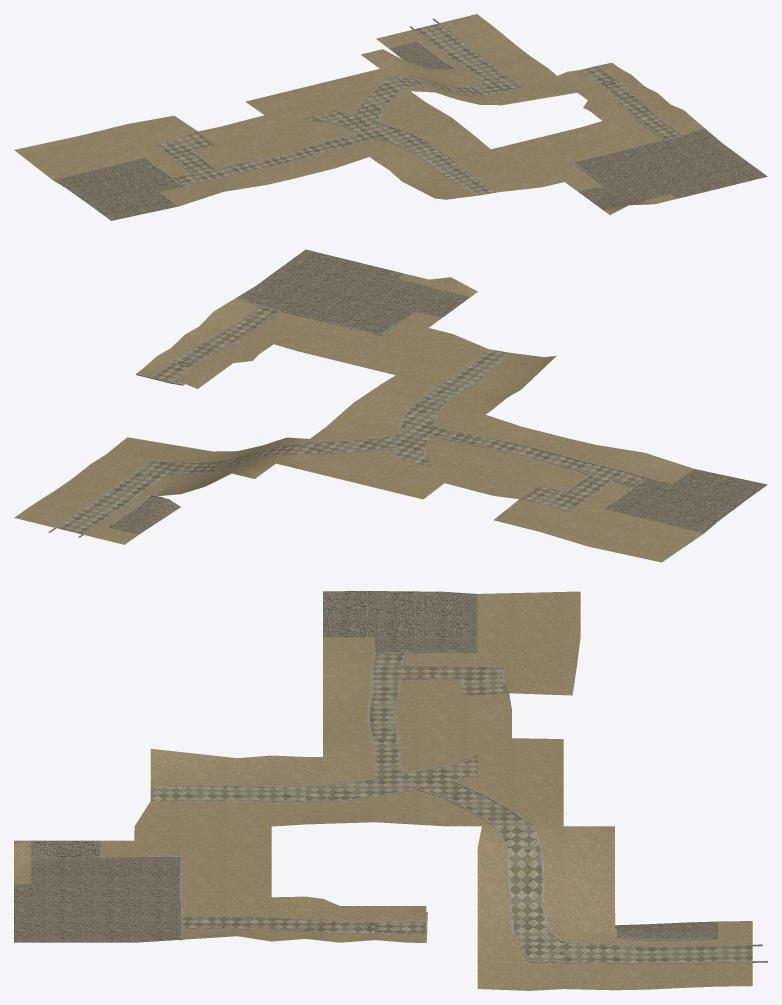
Rendered from Terrain1_scene97.fbx.
The picture shows the model from 3 angles, top to bottom: view 1: azimuth 30°, elevation 25°; view 2: azimuth 150°, elevation 25°; view 3: azimuth 270°, elevation 25°; orthographic projection. The views are drawn at different scales.
Parts seen in each view (by area): view 1: Terrain1_scene97; view 2: Terrain1_scene97; view 3: Terrain1_scene97.
Boxes of the visible parts, x1=… form: Terrain1_scene97: x1=14, y1=14, x2=767, y2=220; Terrain1_scene97: x1=14, y1=249, x2=767, y2=562; Terrain1_scene97: x1=14, y1=591, x2=767, y2=990.
Size of the model in its own units: 106 by 9.67 by 97.1.
3 materials, 3 textured.
